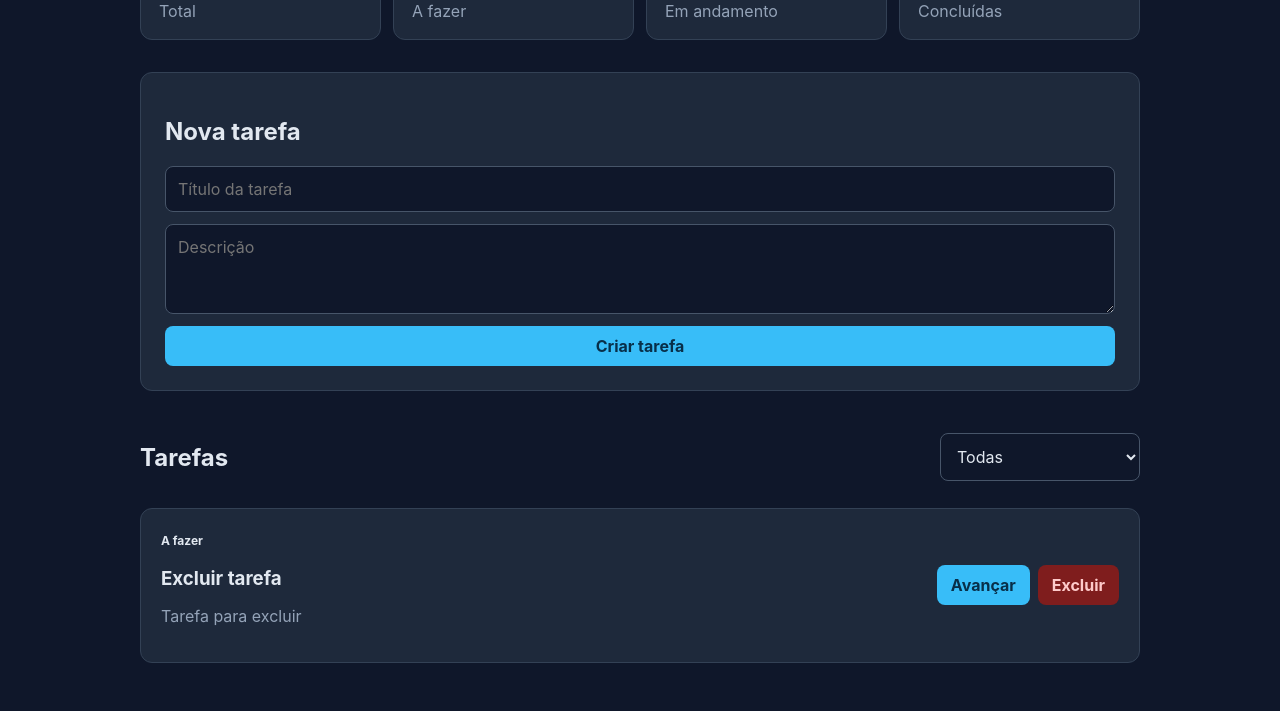
Test: TaskFlow › deve excluir uma tarefa
(page scrolled)
Click the button with class "danger": (1078, 586) [1038,566,1119,606]
(page scrolled)
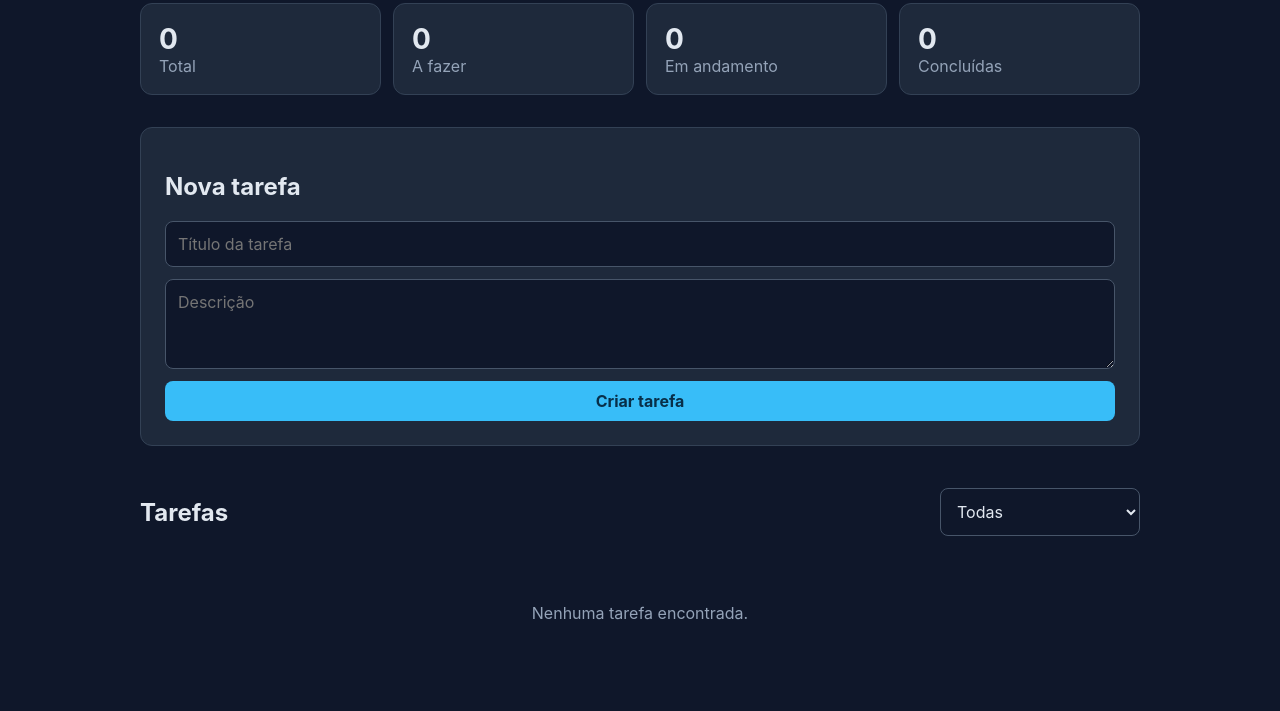
Expected: the heading "Excluir tarefa" is gone
